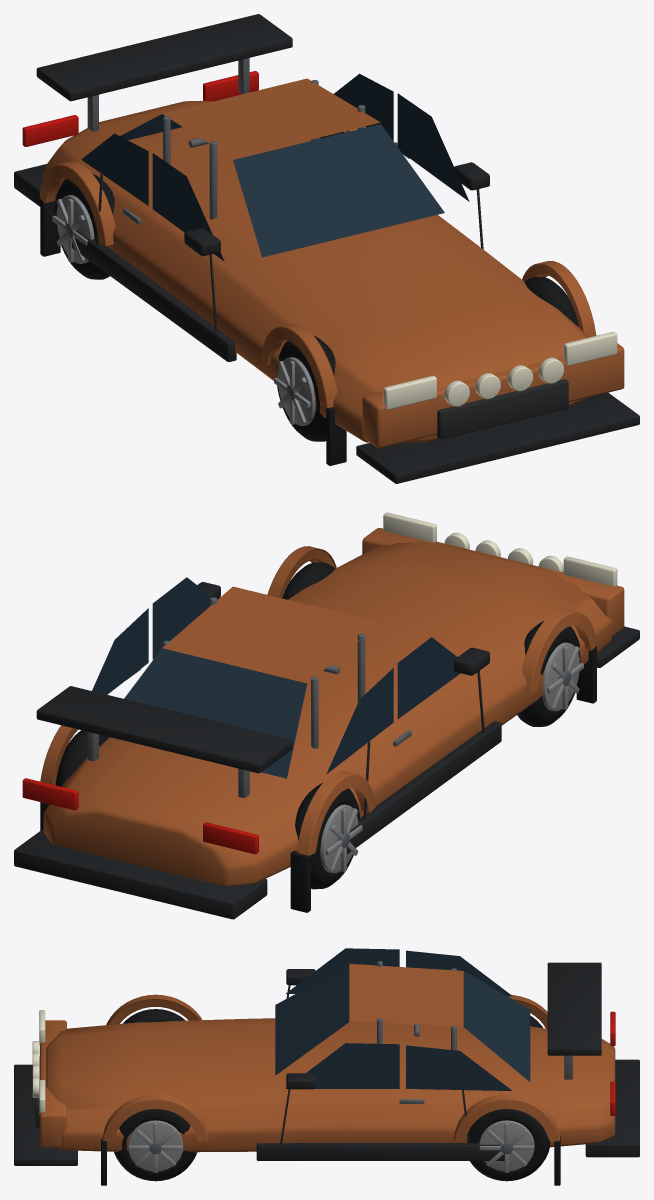
File: bavarian_gt_r_v1.glb
3 views of the same model, one above another, from view 1: azimuth 30°, elevation 25°; view 2: azimuth 150°, elevation 25°; view 3: azimuth 270°, elevation 25° (orthographic). The views are drawn at different scales.
Visible parts, largest first — view 1: STATIC_GT_Paint_Ochre, STATIC_GT_Glass, STATIC_GT_Carbon, STATIC_GT_Lamp, STATIC_GT_Cabin, STATIC_GT_Steel, STATIC_GT_Tail, Wheel_FL_GT_Alloy, STATIC_GT_Rubber, Wheel_RL_GT_Alloy, Wheel_FL_GT_Rubber, Wheel_RL_GT_Rubber (+1 smaller); view 2: STATIC_GT_Paint_Ochre, STATIC_GT_Carbon, STATIC_GT_Glass, STATIC_GT_Lamp, STATIC_GT_Tail, STATIC_GT_Steel, STATIC_GT_Rubber, Wheel_FL_GT_Alloy, Wheel_RL_GT_Alloy, Wheel_RL_GT_Rubber, Wheel_FL_GT_Rubber, Wheel_RR_GT_Rubber (+1 smaller); view 3: STATIC_GT_Paint_Ochre, STATIC_GT_Glass, STATIC_GT_Carbon, Wheel_RR_GT_Rubber, Wheel_FR_GT_Alloy, Wheel_FR_GT_Rubber, Wheel_RR_GT_Alloy, STATIC_GT_Lamp, STATIC_GT_Steel, Wheel_FL_GT_Rubber, STATIC_GT_Rubber, STATIC_GT_Cabin (+1 smaller).
Part boxes in pixels (<box>): STATIC_GT_Paint_Ochre: <box>39,78,624,448</box>; STATIC_GT_Glass: <box>81,73,469,261</box>; STATIC_GT_Carbon: <box>14,14,639,483</box>; STATIC_GT_Lamp: <box>383,331,617,409</box>; STATIC_GT_Cabin: <box>96,173,568,439</box>; STATIC_GT_Steel: <box>87,58,409,224</box>; STATIC_GT_Tail: <box>22,71,258,146</box>; Wheel_FL_GT_Alloy: <box>274,357,315,425</box>; STATIC_GT_Rubber: <box>40,194,346,465</box>; Wheel_RL_GT_Alloy: <box>52,195,94,263</box>; Wheel_FL_GT_Rubber: <box>277,335,335,441</box>; Wheel_RL_GT_Rubber: <box>54,173,114,279</box>; STATIC_GT_Paint_Ochre: <box>40,528,624,886</box>; STATIC_GT_Carbon: <box>14,582,639,919</box>; STATIC_GT_Glass: <box>92,577,460,778</box>; STATIC_GT_Lamp: <box>383,512,617,586</box>; STATIC_GT_Tail: <box>22,778,258,854</box>; STATIC_GT_Steel: <box>87,597,411,798</box>; STATIC_GT_Rubber: <box>40,646,596,912</box>; Wheel_FL_GT_Alloy: <box>542,642,583,711</box>; Wheel_RL_GT_Alloy: <box>320,804,362,873</box>; Wheel_RL_GT_Rubber: <box>295,783,359,889</box>; Wheel_FL_GT_Rubber: <box>517,621,580,726</box>; Wheel_RR_GT_Rubber: <box>55,730,109,786</box>; STATIC_GT_Paint_Ochre: <box>40,963,615,1152</box>; STATIC_GT_Glass: <box>275,948,530,1090</box>; STATIC_GT_Carbon: <box>14,962,639,1165</box>; Wheel_RR_GT_Rubber: <box>467,1109,550,1181</box>; Wheel_FR_GT_Alloy: <box>128,1120,183,1172</box>; Wheel_FR_GT_Rubber: <box>114,1109,197,1181</box>; Wheel_RR_GT_Alloy: <box>479,1120,534,1172</box>; STATIC_GT_Lamp: <box>32,1010,45,1114</box>; STATIC_GT_Steel: <box>377,961,572,1103</box>; Wheel_FL_GT_Rubber: <box>123,1009,185,1023</box>; STATIC_GT_Rubber: <box>101,1135,560,1185</box>; STATIC_GT_Cabin: <box>35,985,470,1144</box>.
Size of what is drawn, in the model's own units: 2.15 by 1.29 by 5.08.
